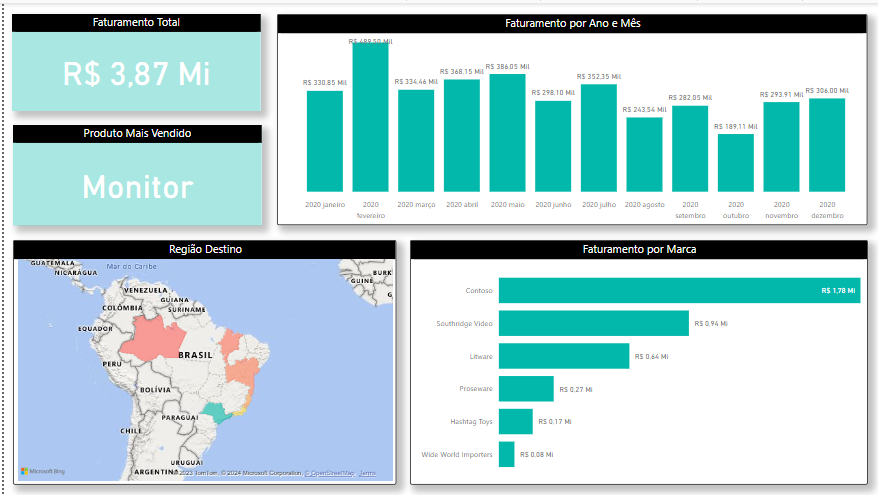

Layout of this report page (visuals, bound fields, positions):
{"tool":"powerbi","page":{"name":"Página 1","canvas":[1280,720],"ordinal":0},"visuals":[{"type":"card","title":"Faturamento Total","fields":{"Values":["Sum(BaseVendas.Faturamento)"]},"box":[11.3,16.2,364,142.4],"z":0},{"type":"card","title":"Produto Mais Vendido","fields":{"Values":["Min(BaseVendas.Produto)"]},"box":[12.9,178,364,147.2],"z":1000},{"type":"columnChart","fields":{"Y":["Sum(BaseVendas.Faturamento)"],"Category":["BaseVendas.Data da Venda.Variation.Hierarquia de datas.Ano","BaseVendas.Data da Venda.Variation.Hierarquia de datas.Mês"]},"box":[399.6,16.2,864,309],"z":2000},{"type":"barChart","fields":{"Y":["Sum(BaseVendas.Faturamento)"],"Category":["BaseVendas.Marca"]},"box":[593.8,346.2,669.8,357.6],"z":3000},{"type":"filledMap","fields":{"Category":["BaseVendas.Região Destino"]},"box":[12.9,346.2,561.4,357.6],"z":4000}]}

Visuals, with their boxes in screenshot pixels (x1, y1, x2, y2), scaled from the page's 1280x720 canvas onto the 878x495 screenshot:
"Faturamento Total" card: region(8, 11, 257, 109)
"Produto Mais Vendido" card: region(9, 122, 259, 224)
columnChart - Sum(BaseVendas.Faturamento) x BaseVendas.Data da Venda.Variation.Hierarquia de datas.Ano: region(274, 11, 867, 224)
barChart - Sum(BaseVendas.Faturamento) x BaseVendas.Marca: region(407, 238, 867, 484)
filledMap - BaseVendas.Região Destino: region(9, 238, 394, 484)
